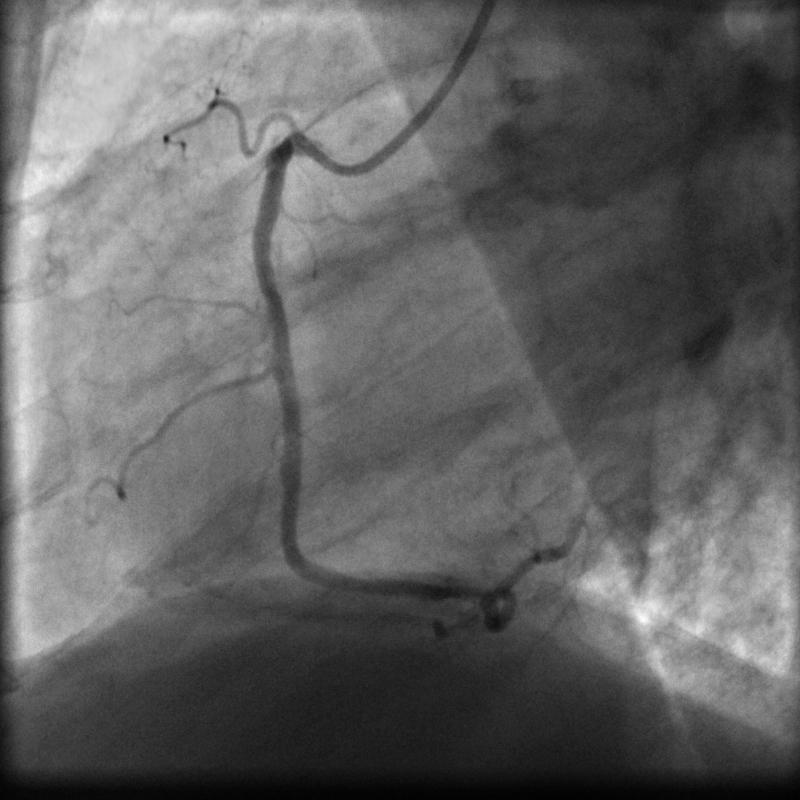Stenosis: (442, 572, 481, 608)
